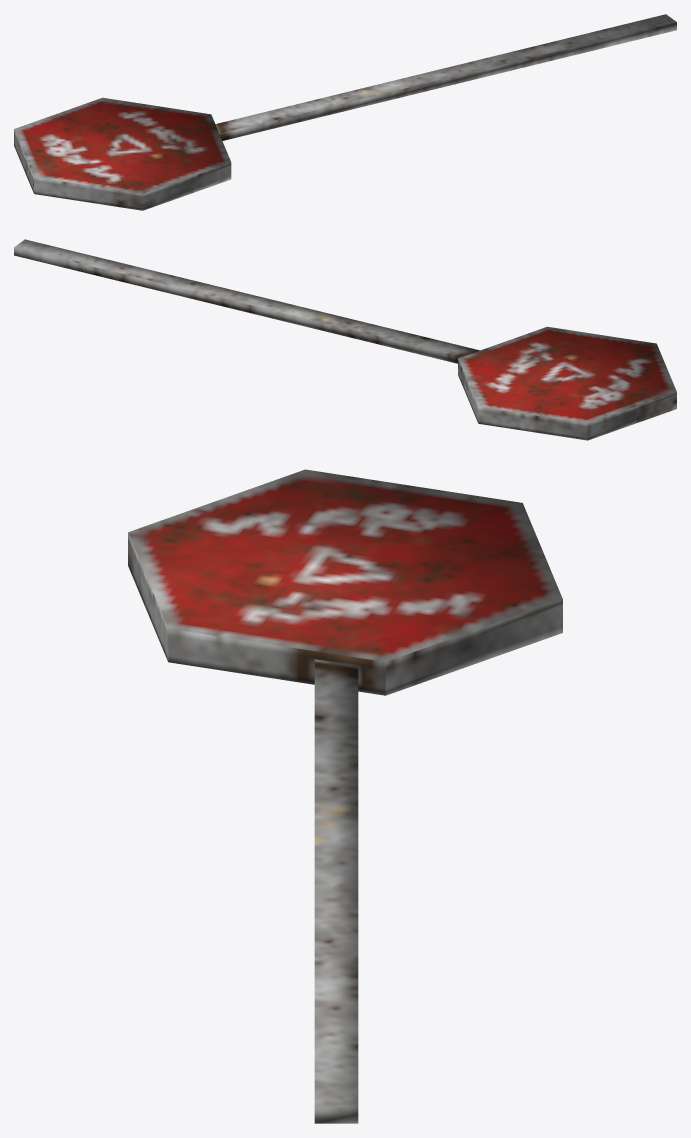
File: Senyal_low.obj
The picture shows the model from 3 angles, top to bottom: view 1: azimuth 30°, elevation 25°; view 2: azimuth 150°, elevation 25°; view 3: azimuth 270°, elevation 25°; orthographic projection. The views are drawn at different scales.
Parts seen in each view (by area): view 1: Senyal_LowPoly; view 2: Senyal_LowPoly; view 3: Senyal_LowPoly.
Part boxes in pixels (<box>): Senyal_LowPoly: <box>14,14,676,210</box>; Senyal_LowPoly: <box>14,239,676,440</box>; Senyal_LowPoly: <box>128,469,562,1123</box>.
Size of the model in its own units: 8.9 by 0.222 by 2.6.
1 material, 1 textured.
